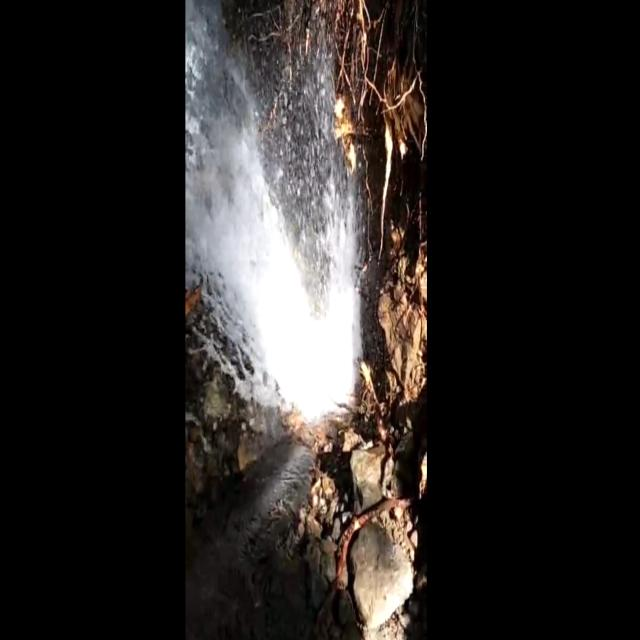leak: (186, 2, 360, 420)
